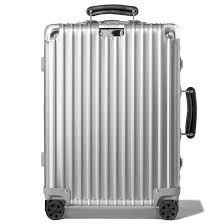suitcase: (41, 2, 199, 221)
